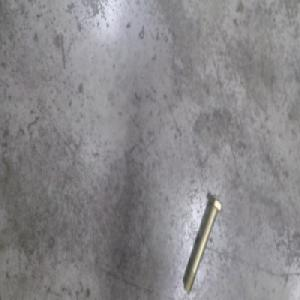Bolt: (182, 198, 222, 293)
